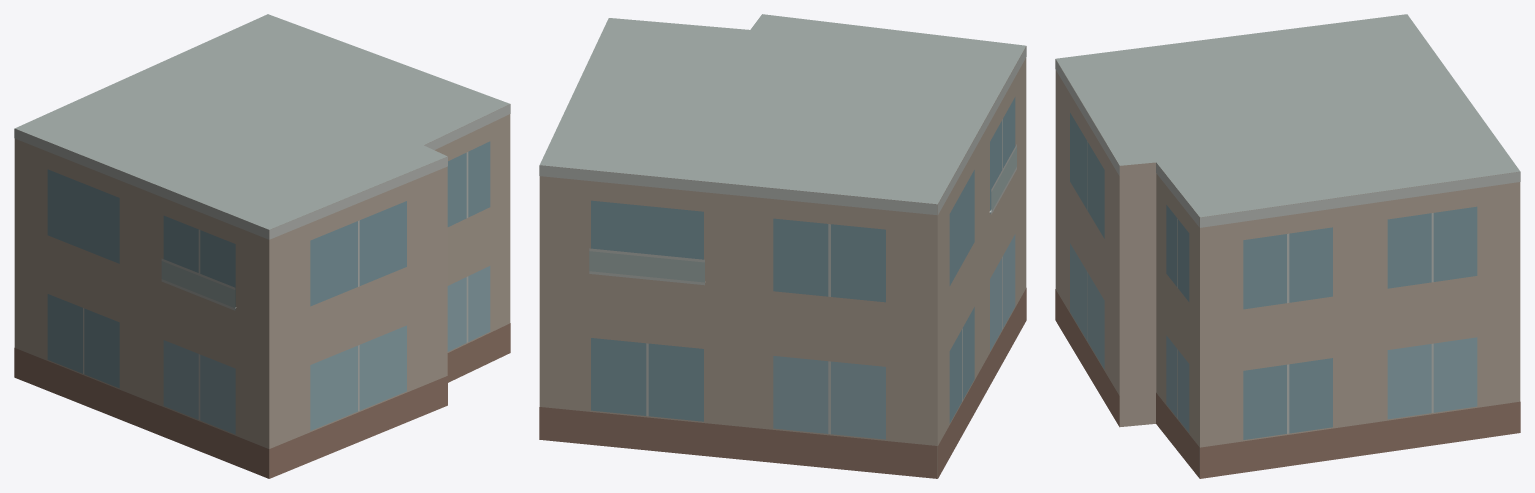
Rendered from survey-upis-32928358.glb.
The picture shows the model from 3 angles, left to right: view 1: azimuth 30°, elevation 25°; view 2: azimuth 150°, elevation 25°; view 3: azimuth 270°, elevation 25°; orthographic projection. The views are drawn at different scales.
Parts seen in each view (by area): view 1: survey-upis-32928358.tmp; view 2: survey-upis-32928358.tmp; view 3: survey-upis-32928358.tmp.
Part boxes in pixels (x1,y1,x2,y2): survey-upis-32928358.tmp: (14,14,510,478); survey-upis-32928358.tmp: (539,14,1026,478); survey-upis-32928358.tmp: (1055,14,1520,478).
Size of the model in its own units: 10.19 by 6.1 by 9.85.
